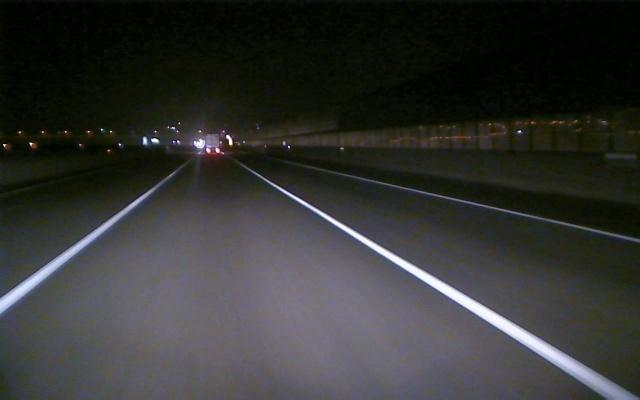lane: (256, 174, 635, 396), (3, 179, 167, 312), (352, 174, 640, 242)
